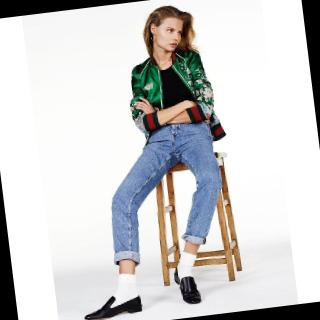loafers: (71, 286, 152, 320), (160, 258, 205, 312)
